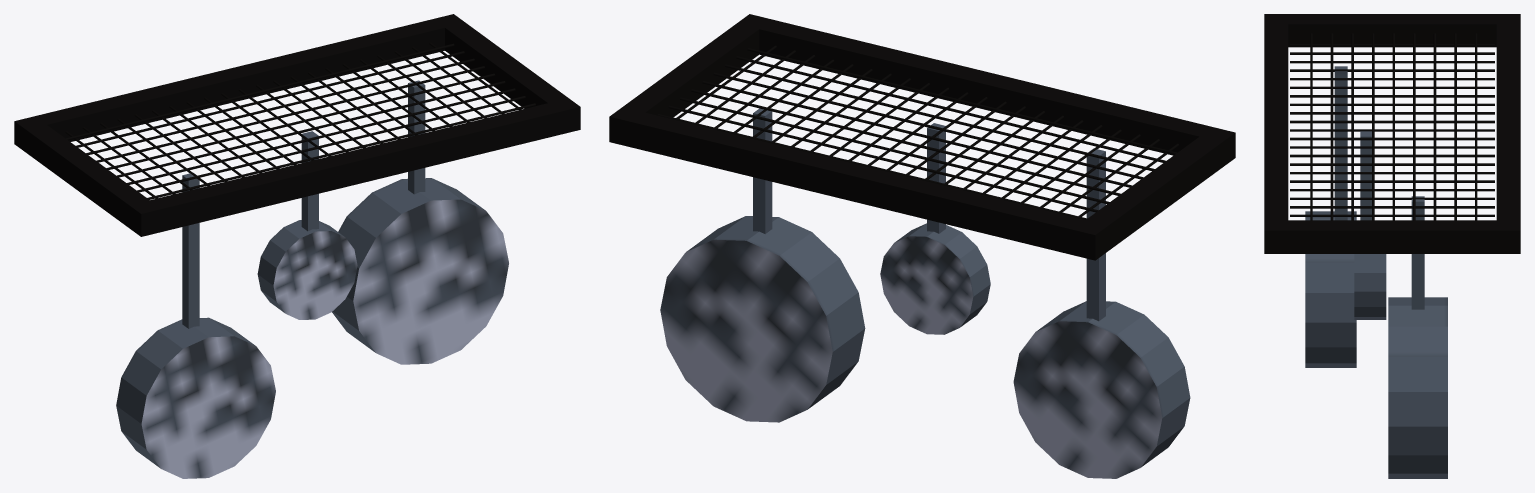
Rendered from Pan_Kit.fbx.
The picture shows the model from 3 angles, left to right: view 1: azimuth 30°, elevation 25°; view 2: azimuth 150°, elevation 25°; view 3: azimuth 270°, elevation 25°; orthographic projection. The views are drawn at different scales.
Visible parts, largest first — view 1: Cube.055, Cylinder.004, Cylinder.005, BézierCurve.070, Cylinder.003, BézierCurve.006, Cube.057, Cube.058, Cube.056; view 2: Cube.055, Cylinder.004, Cylinder.005, BézierCurve.070, Cylinder.003, BézierCurve.006, Cube.057, Cube.058, Cube.056; view 3: Cube.055, BézierCurve.006, Cylinder.004, Cylinder.005, BézierCurve.070, Cylinder.003, Cube.057, Cube.058, Cube.056.
Part boxes in pixels (box(x1,y1,x2,y2)): Cube.055: box(14, 14, 580, 236); Cylinder.004: box(332, 178, 508, 364); Cylinder.005: box(116, 317, 275, 478); BézierCurve.070: box(66, 43, 535, 199); Cylinder.003: box(257, 220, 357, 319); BézierCurve.006: box(65, 42, 521, 198); Cube.057: box(182, 172, 199, 328); Cube.058: box(408, 80, 425, 194); Cube.056: box(301, 131, 318, 231); Cube.055: box(609, 14, 1235, 260); Cylinder.004: box(660, 216, 865, 422); Cylinder.005: box(1013, 301, 1190, 478); BézierCurve.070: box(657, 48, 1177, 219); Cylinder.003: box(880, 223, 990, 334); BézierCurve.006: box(676, 45, 1178, 216); Cube.057: box(1086, 148, 1105, 321); Cube.058: box(753, 108, 772, 233); Cube.056: box(927, 123, 945, 233); Cube.055: box(1264, 14, 1520, 253); BézierCurve.006: box(1290, 43, 1494, 216); Cylinder.004: box(1388, 297, 1447, 478); Cylinder.005: box(1305, 211, 1356, 367); BézierCurve.070: box(1310, 33, 1477, 220); Cylinder.003: box(1354, 254, 1386, 319); Cube.057: box(1334, 66, 1347, 220); Cube.058: box(1411, 196, 1424, 309); Cube.056: box(1360, 131, 1371, 220).
Size of the model in its own units: 200 by 131 by 100.
